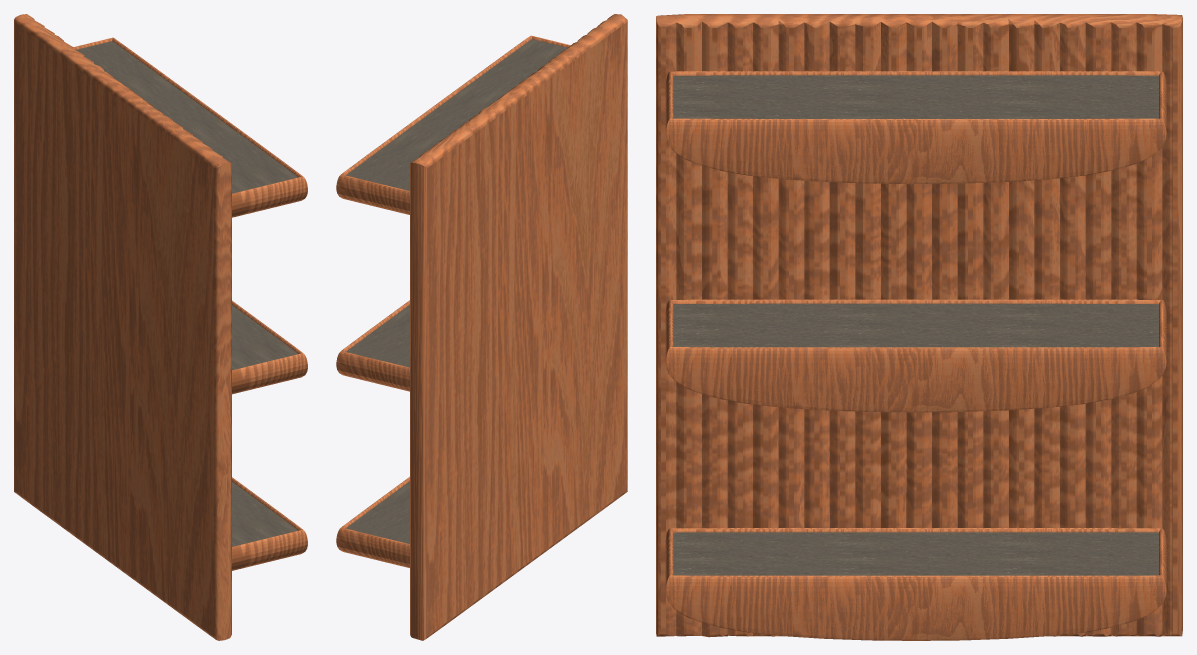
Rendered from wall_plant_pot.glb.
3 views of the same model, side by side, from view 1: azimuth 30°, elevation 25°; view 2: azimuth 150°, elevation 25°; view 3: azimuth 270°, elevation 25° (orthographic). The views are drawn at different scales.
Parts seen in each view (by area): view 1: Cube, Plane, Cube.005, Plane.002, Plane.003, Cube.003, Cube.004; view 2: Cube, Plane, Cube.005, Cube.004, Cube.003, Plane.002, Plane.003; view 3: Cube, Cube.004, Cube.003, Cube.005, Plane.002, Plane, Plane.003.
Part boxes in pixels (box(x1,y1,x2,y2)): Cube: box(14, 14, 231, 640); Plane: box(76, 41, 298, 193); Cube.005: box(74, 37, 307, 217); Plane.002: box(232, 305, 297, 370); Plane.003: box(232, 482, 297, 546); Cube.003: box(232, 300, 307, 394); Cube.004: box(232, 477, 307, 570); Cube: box(410, 14, 627, 640); Plane: box(346, 39, 567, 190); Cube.005: box(336, 35, 570, 214); Cube.004: box(336, 477, 409, 567); Cube.003: box(336, 300, 409, 391); Plane.002: box(346, 305, 409, 367); Plane.003: box(346, 481, 409, 543); Cube: box(656, 14, 1182, 637); Cube.004: box(665, 528, 1166, 640); Cube.003: box(665, 299, 1166, 412); Cube.005: box(665, 71, 1166, 183); Plane.002: box(673, 303, 1158, 347); Plane: box(673, 75, 1158, 118); Plane.003: box(673, 532, 1158, 575).
Bounding box in the file's own units: 2.3 × 10.81 × 8.36.
Materials: 7 (7 with a texture image).
